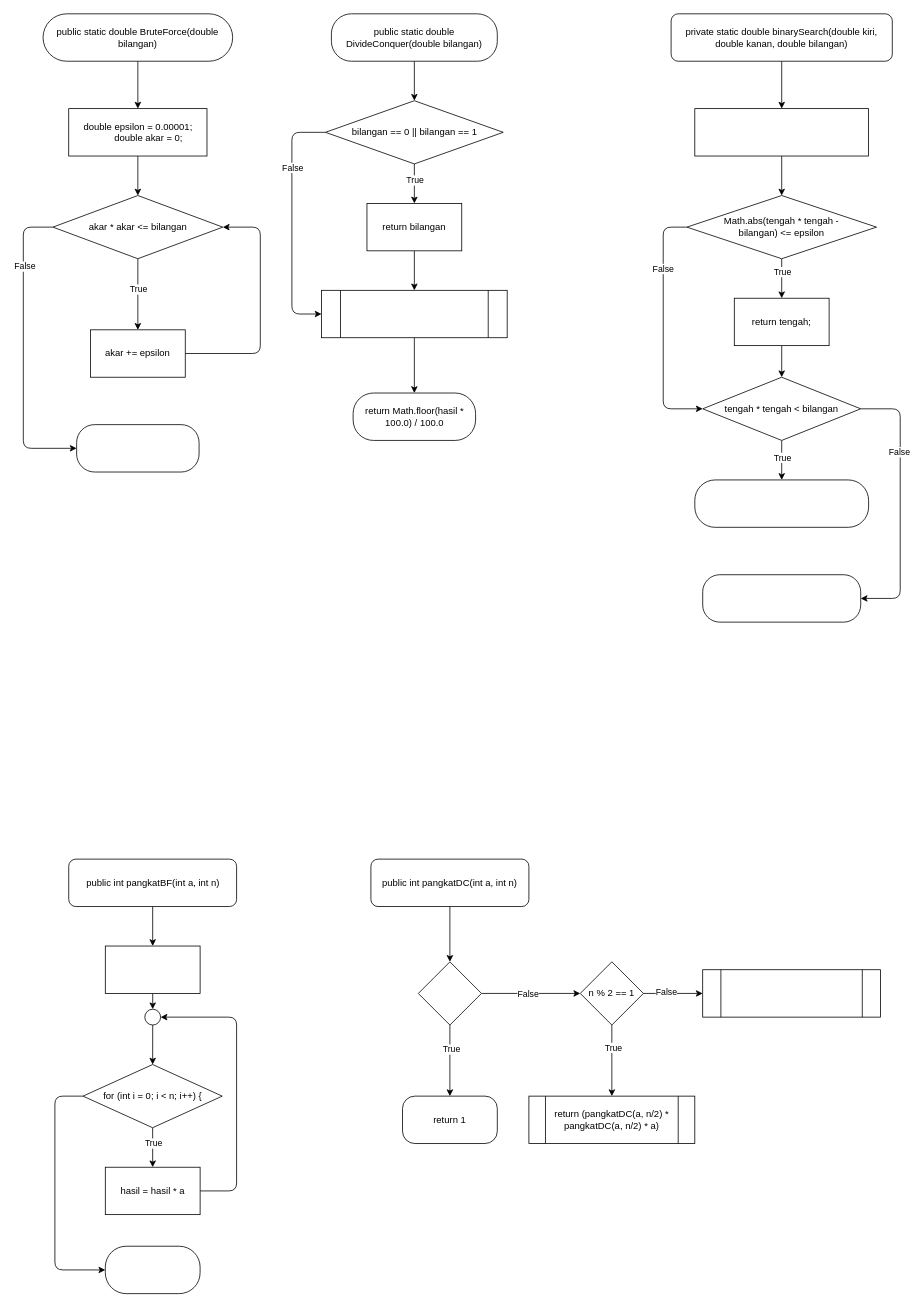
The diagram is 923 pixels wide and 1307 high, and some of its shapes have lost their labels. The box of each missing label's shape, as (x1, y1, x2, y2) in pixels:
double epsilon = 0.00001; double tengah = (kiri + kanan) / 2;: (694, 108, 869, 156)
double hasil = binarySearch(0, bilangan, bilangan): (321, 290, 507, 338)
int hasil = 1;: (105, 945, 200, 993)
n == 0: (418, 961, 482, 1025)
return (pangkatDC(a, n/2) * pangkatDC(a, n/2)): (702, 969, 880, 1017)
return binarySearch(kiri, tengah, bilangan): (702, 574, 861, 622)
return binarySearch(tengah, kanan, bilangan): (694, 479, 869, 527)
return hasil: (105, 1245, 200, 1294)
return Math.floor(akar * 100.0) / 100.0;: (76, 424, 199, 472)
